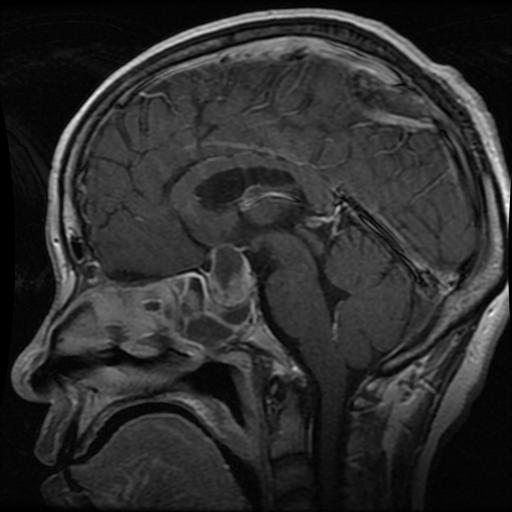Pituirity_tumour: (209, 241, 254, 305)
